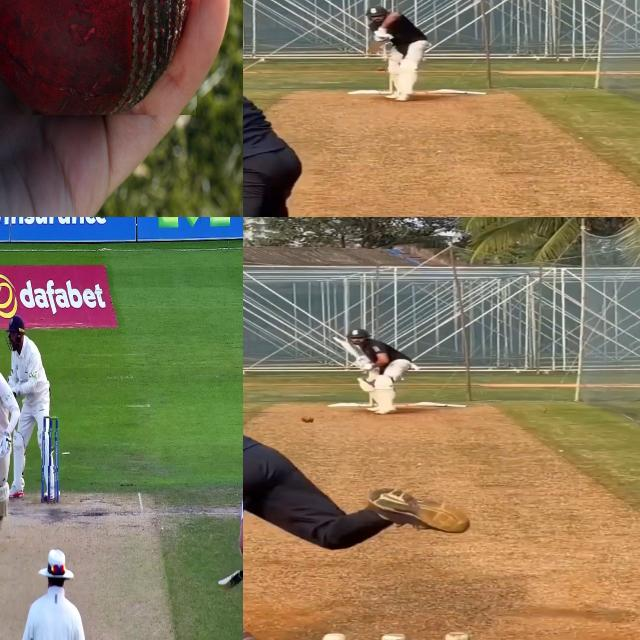Cricket ball: (0, 0, 207, 114), (302, 416, 314, 424), (376, 66, 386, 72)
Stumps: (41, 414, 60, 508)
